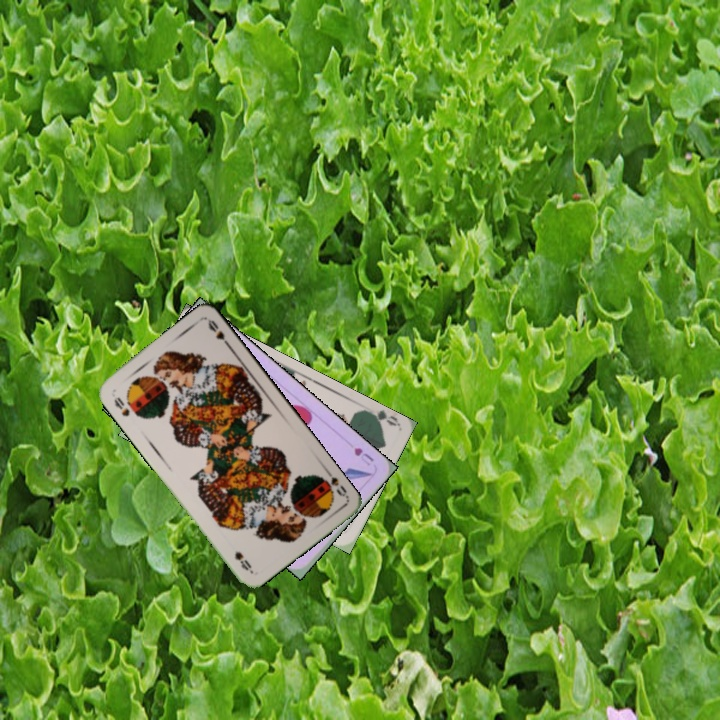GO: (359, 406, 400, 429)
HU: (350, 443, 376, 468)
SO: (315, 464, 350, 500), (110, 393, 132, 419)
